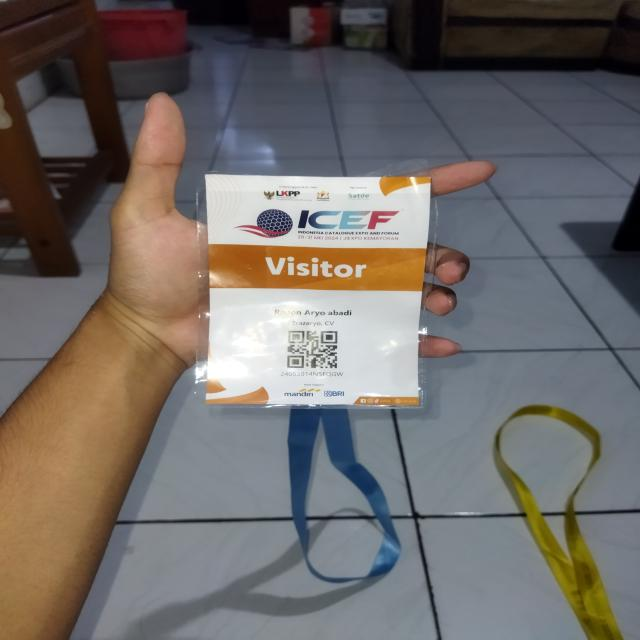ID_card: (203, 172, 432, 409)
